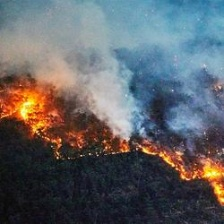fire: (7, 88, 224, 190)
smoke: (54, 9, 171, 139)
